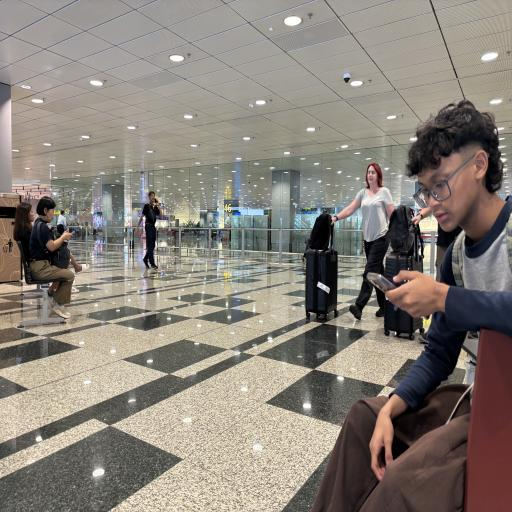person_with_luggage_left: (296, 154, 383, 339)
